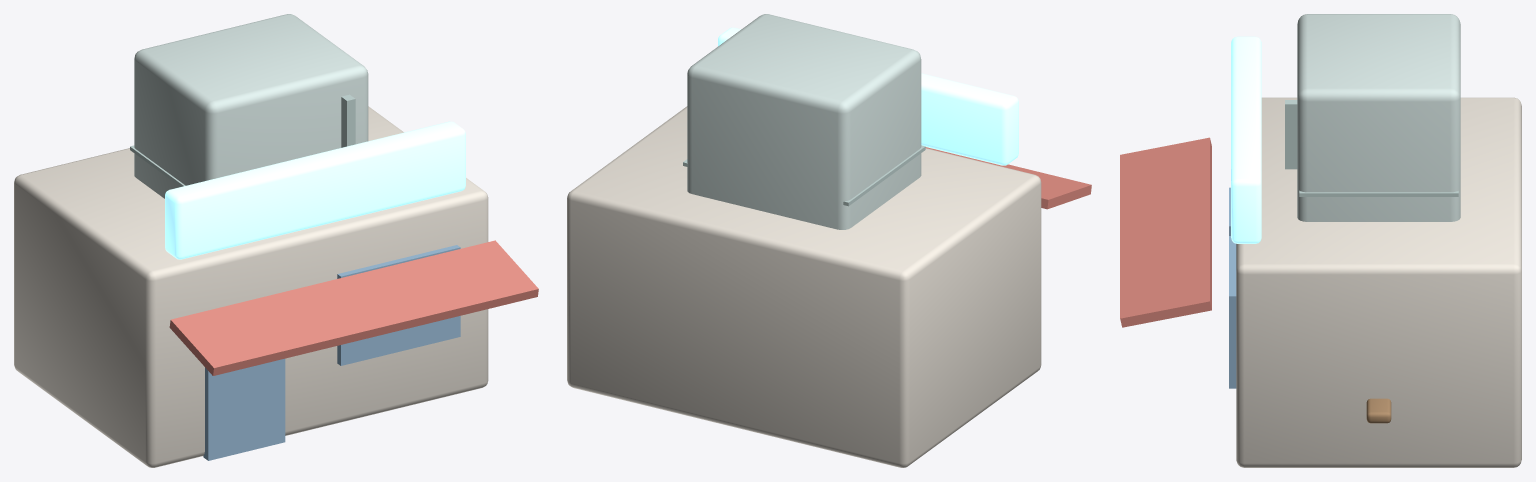
Rendered from kitchen_set.glb.
3 renders of one model, left to right at view 1: azimuth 30°, elevation 25°; view 2: azimuth 150°, elevation 25°; view 3: azimuth 270°, elevation 25°, orthographic. The views are drawn at different scales.
Visible parts, largest first — view 1: mart, fridge; view 2: mart, fridge; view 3: mart, fridge, pan.
Boxes of the visible parts, left/top/right/bottom form: mart: left=14, top=106, right=538, bottom=467; fridge: left=130, top=14, right=368, bottom=198; mart: left=567, top=27, right=1091, bottom=467; fridge: left=683, top=14, right=925, bottom=229; mart: left=1120, top=36, right=1521, bottom=467; fridge: left=1285, top=14, right=1460, bottom=221; pan: left=1366, top=398, right=1391, bottom=423.
Bounding box in the file's own units: 2.17 × 1.8 × 1.97.
